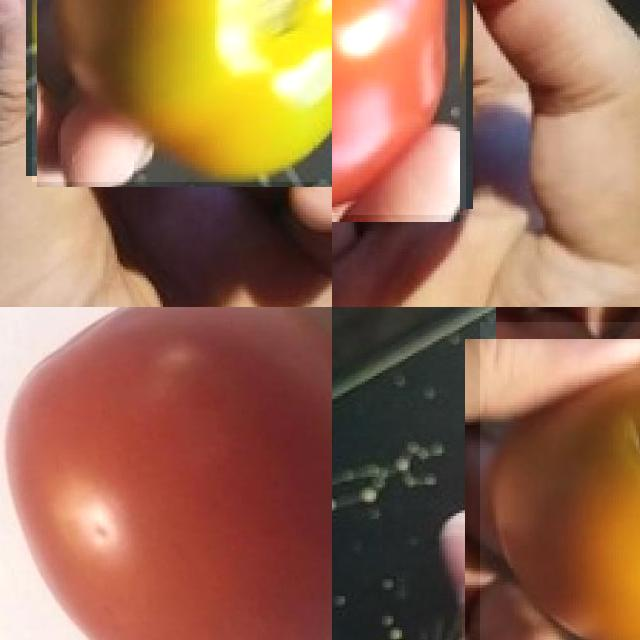Fresh Tomato: (0, 307, 332, 640), (332, 0, 466, 215)
Rotten Tomato: (31, 0, 332, 181), (480, 322, 640, 640)
